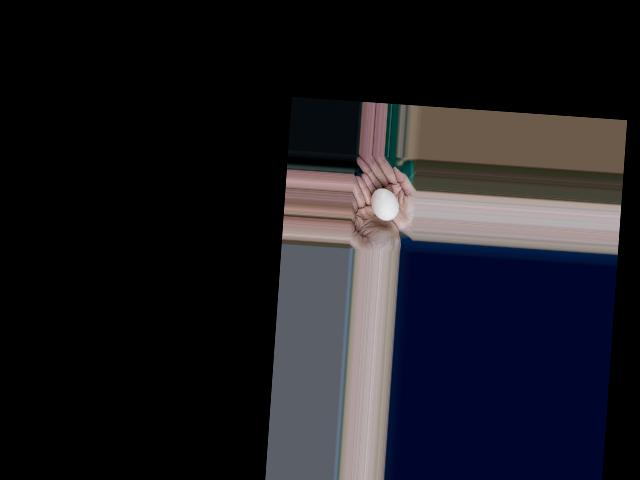egg: (370, 187, 399, 220)
